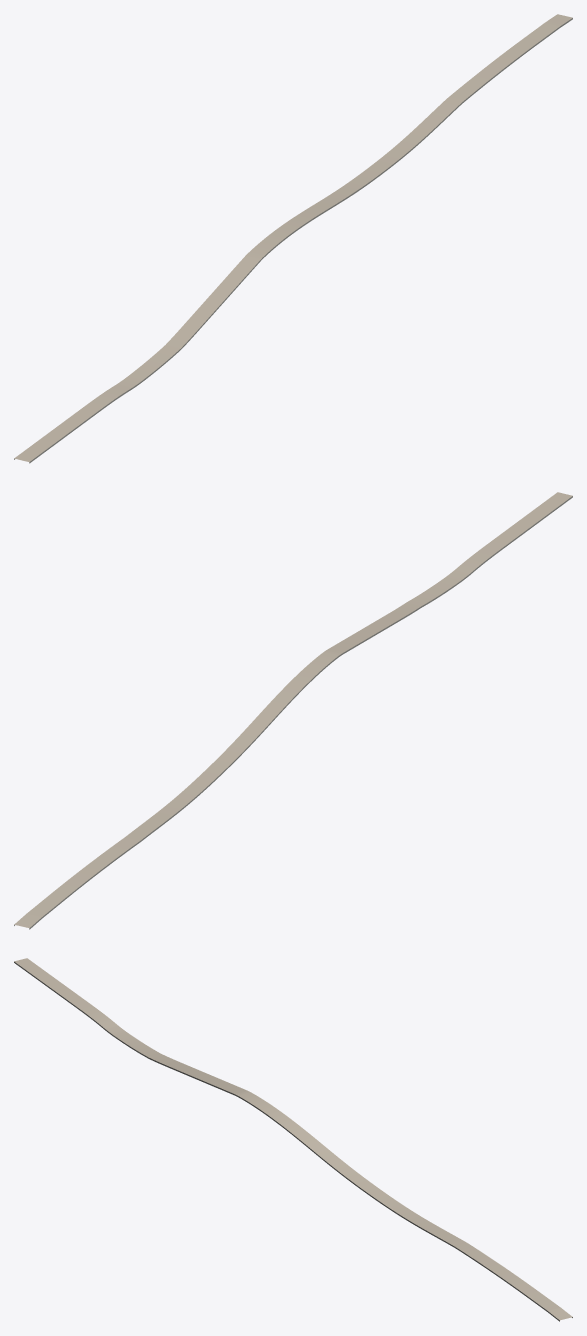
File: SM_Road_to_gym.fbx
3 renders of one model, top to bottom at view 1: azimuth 30°, elevation 25°; view 2: azimuth 210°, elevation 25°; view 3: azimuth 270°, elevation 25°, orthographic. The views are drawn at different scales.
Parts seen in each view (by area): view 1: SM_Road_to_gym; view 2: SM_Road_to_gym; view 3: SM_Road_to_gym.
Boxes of the visible parts, bbox=[...] form: SM_Road_to_gym: bbox=[14, 14, 572, 463]; SM_Road_to_gym: bbox=[14, 492, 572, 929]; SM_Road_to_gym: bbox=[14, 958, 572, 1321].
Size of the model in its own units: 454 by 13.49 by 292.
